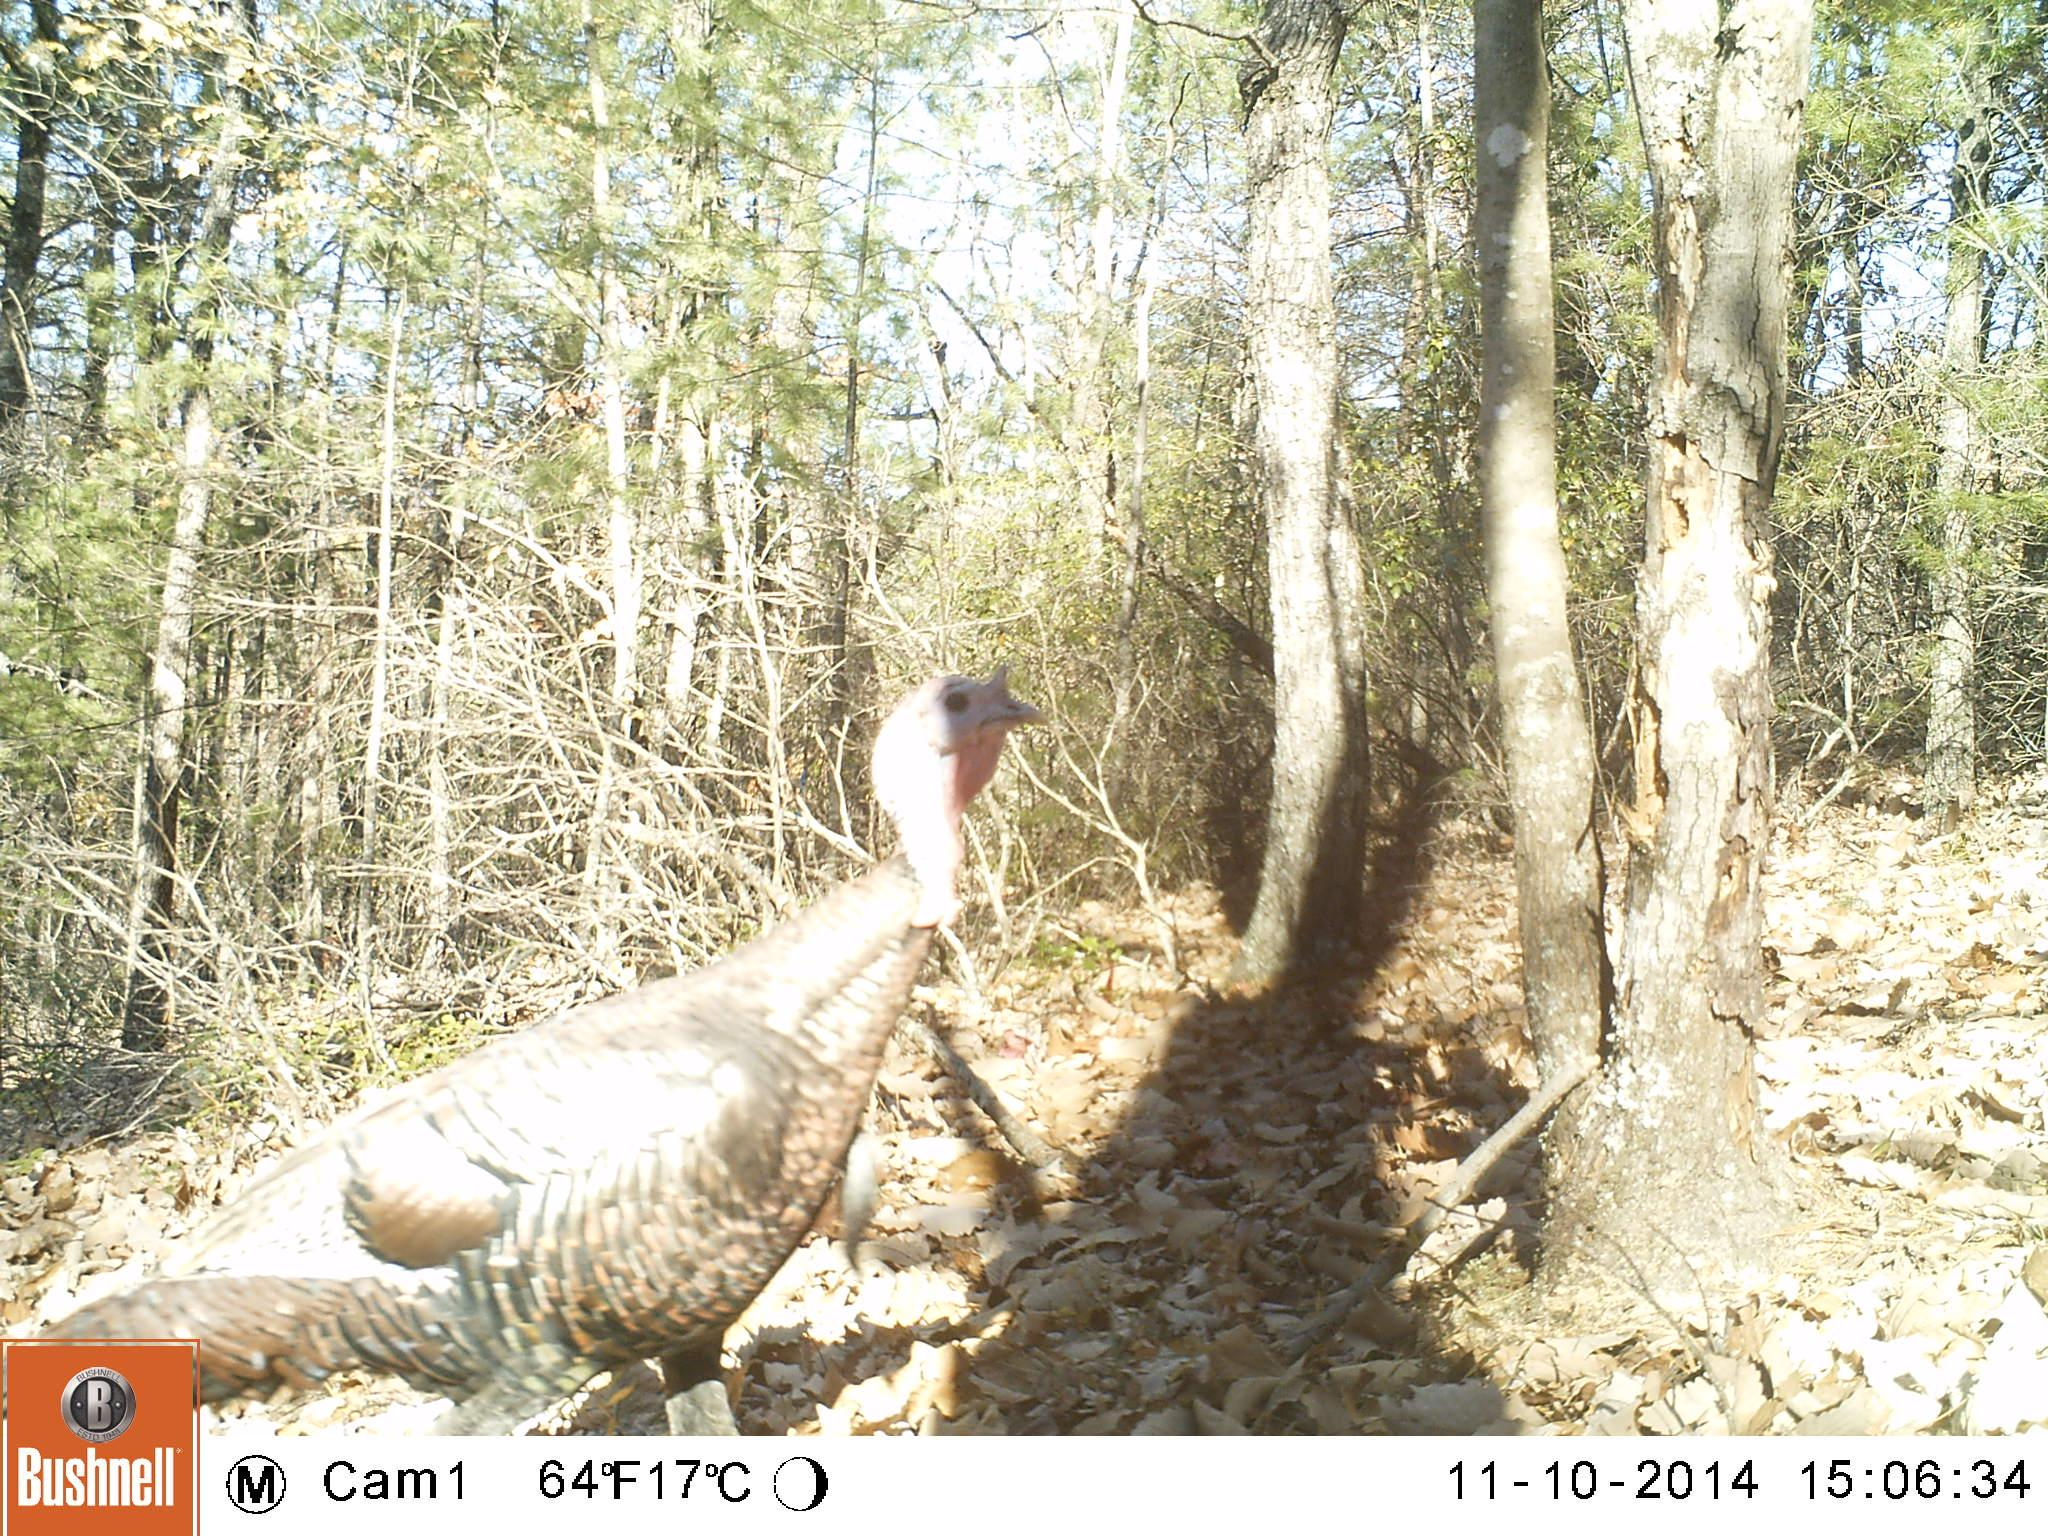Animal: (6, 662, 1059, 1428)
